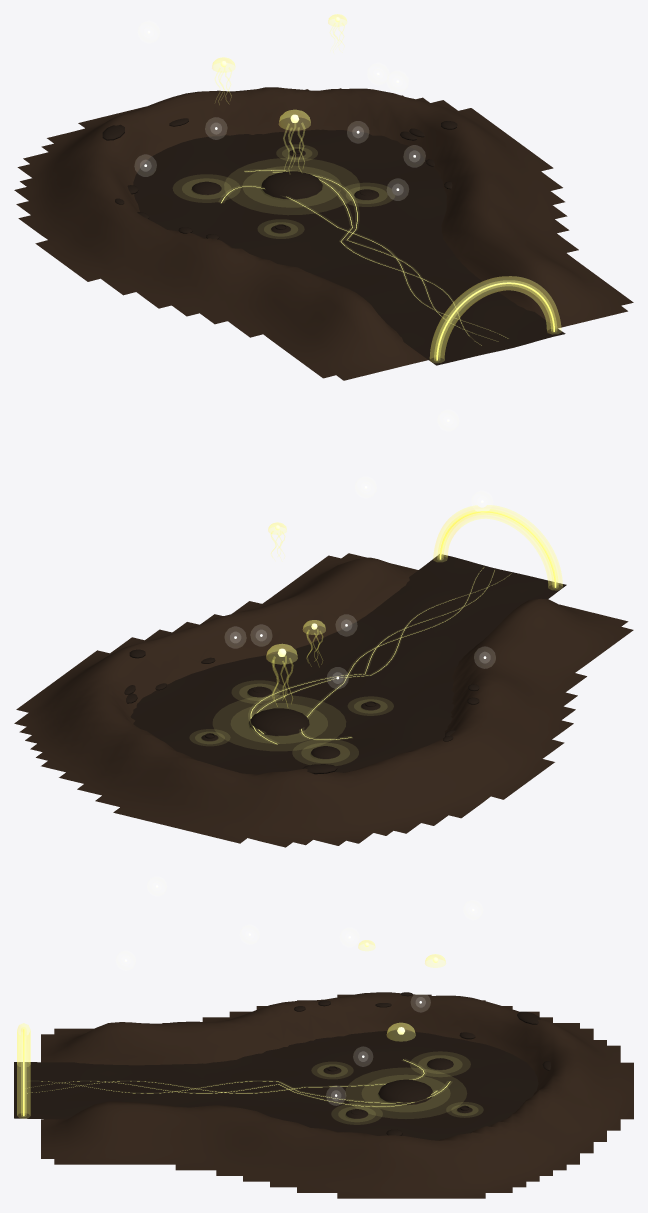
File: mudpit_burbler.glb
3 views of the same model, one above another, from view 1: azimuth 30°, elevation 25°; view 2: azimuth 150°, elevation 25°; view 3: azimuth 270°, elevation 25° (orthographic). The views are drawn at different scales.
Visible parts, largest first — view 1: Burbler_Banks, Burbler_Mud, Burbler_Outlet_0_Arch2, Burbler_Bubble_0_Dome, Burbler_Outlet_0_Arch1, Burbler_Wisp_0_Bell; view 2: Burbler_Banks, Burbler_Mud, Burbler_Outlet_0_Arch2, Burbler_Bubble_0_Dome, Burbler_Outlet_0_Arch1; view 3: Burbler_Banks, Burbler_Mud, Burbler_Outlet_0_Arch2, Burbler_Bubble_0_Dome, Burbler_Outlet_0_Arch1.
Boxes of the visible parts, box(x1,y1,x2,y2) form: Burbler_Banks: box(14, 87, 633, 380); Burbler_Mud: box(133, 129, 565, 365); Burbler_Outlet_0_Arch2: box(430, 276, 561, 362); Burbler_Bubble_0_Dome: box(260, 171, 323, 201); Burbler_Outlet_0_Arch1: box(434, 280, 556, 360); Burbler_Wisp_0_Bell: box(279, 109, 310, 130); Burbler_Banks: box(14, 553, 633, 847); Burbler_Mud: box(130, 554, 566, 774); Burbler_Outlet_0_Arch2: box(433, 505, 562, 589); Burbler_Bubble_0_Dome: box(248, 708, 310, 737); Burbler_Outlet_0_Arch1: box(437, 509, 558, 587); Burbler_Banks: box(41, 992, 633, 1198); Burbler_Mud: box(14, 1030, 538, 1140); Burbler_Outlet_0_Arch2: box(17, 1023, 30, 1118); Burbler_Bubble_0_Dome: box(377, 1079, 434, 1106); Burbler_Outlet_0_Arch1: box(21, 1027, 26, 1116).
Size of the model in its own units: 4.93 by 2.35 by 6.33.
